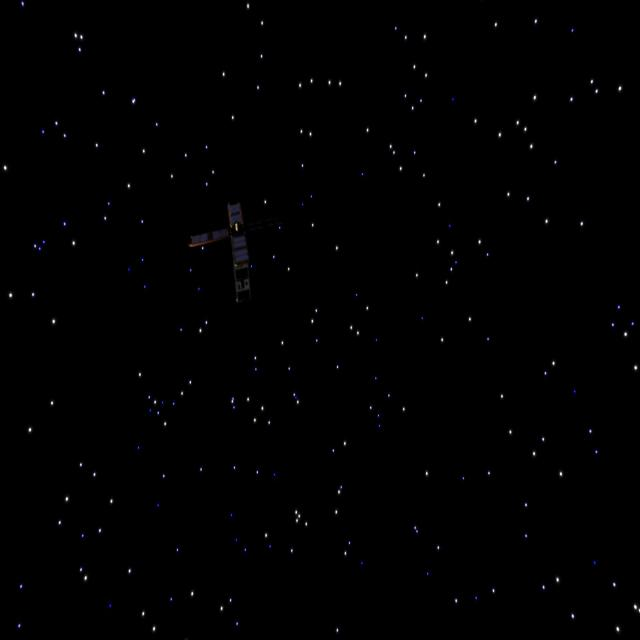satellite: (185, 192, 279, 310)
